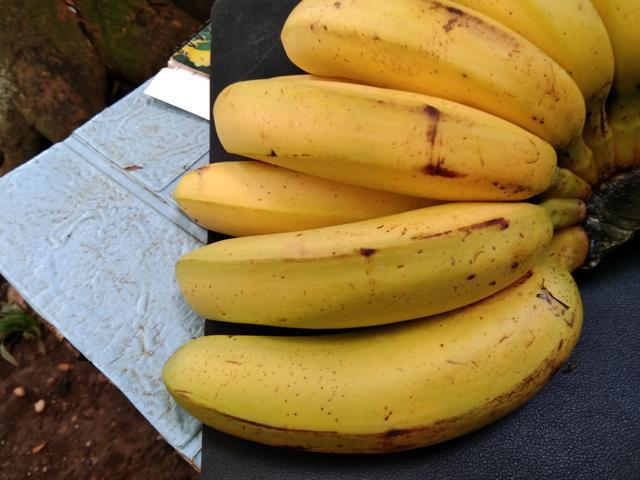freshripe: (170, 155, 367, 241)
ripe: (156, 275, 586, 450), (160, 183, 548, 314), (274, 0, 591, 142), (207, 70, 548, 196)
